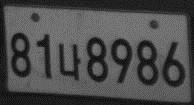1: (34, 33, 52, 80)
6: (161, 41, 186, 88)
8: (135, 39, 159, 86), (85, 35, 108, 83), (9, 31, 32, 78)
9: (110, 37, 133, 84)
나: (57, 41, 82, 82)
